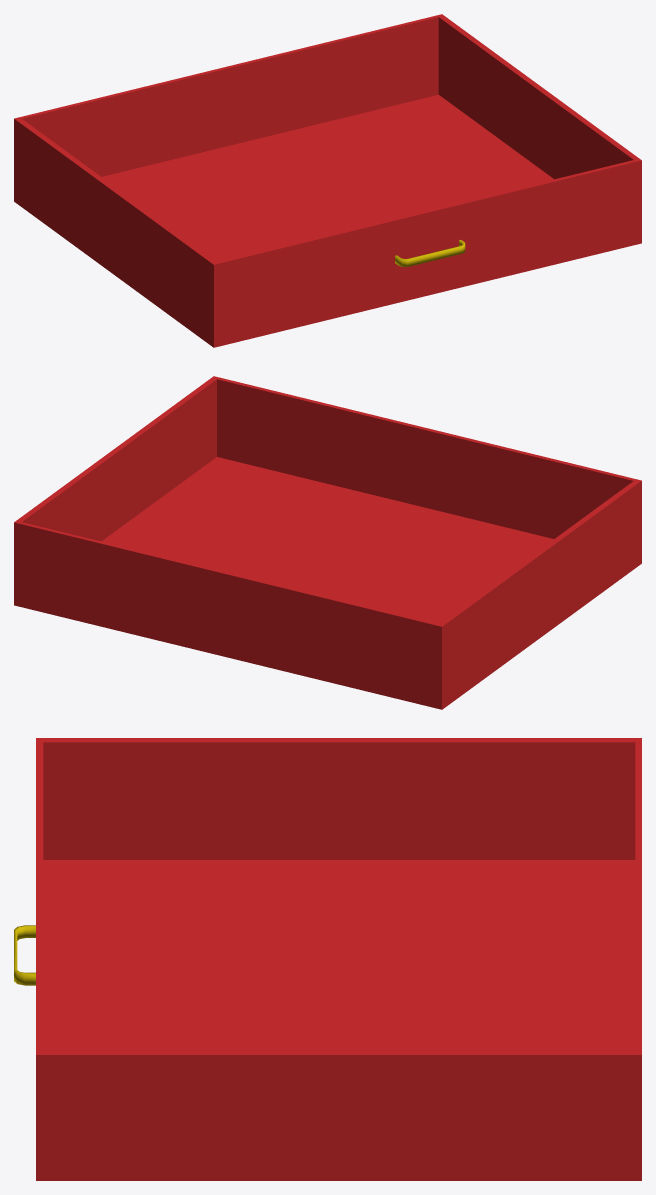
File: MOD_FUR_Bed_drawer_01.fbx
3 views of the same model, one above another, from view 1: azimuth 30°, elevation 25°; view 2: azimuth 150°, elevation 25°; view 3: azimuth 270°, elevation 25° (orthographic). The views are drawn at different scales.
Parts seen in each view (by area): view 1: HSHP_MOD_Bed_drawer_01; view 2: HSHP_MOD_Bed_drawer_01; view 3: HSHP_MOD_Bed_drawer_01.
Part boxes in pixels (box(x1,y1,x2,y2)): HSHP_MOD_Bed_drawer_01: box(14, 14, 641, 347); HSHP_MOD_Bed_drawer_01: box(14, 376, 641, 709); HSHP_MOD_Bed_drawer_01: box(14, 738, 641, 1180).
Size of the model in its own units: 1.18 by 0.2183 by 0.9871.
